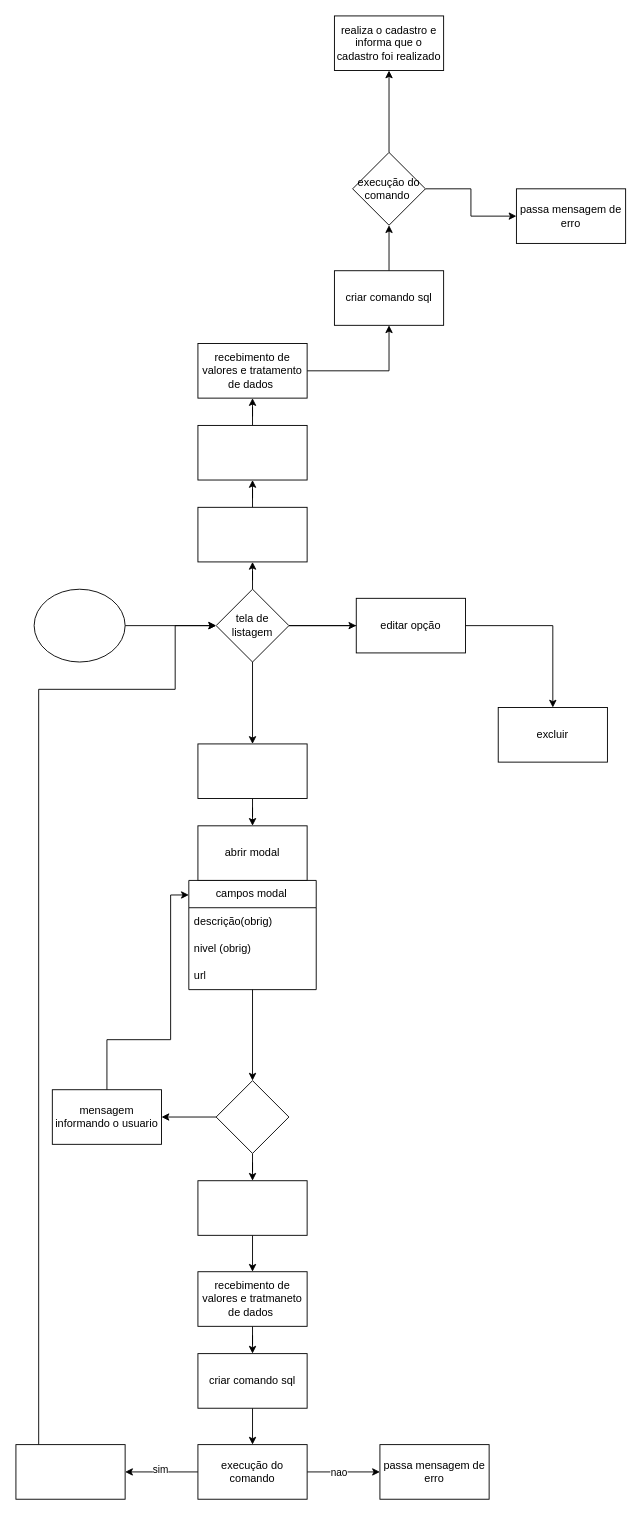
The diagram is 642 pixels wide and 1515 high, and some of its shapes have lost their labels. Each missing label, with the centre of its shape:
"alterar status" belongs at [252,534].
"cadastrar opção" belongs at [252,771].
"fazer a requisiçao com o comando altera_status" belongs at [252,452].
"fazer requisiçao ajax" belongs at [252,1207].
"inicio" belongs at [79,625].
"realizo o cadastro e informo o usuario que cadastro foi realizado" belongs at [70,1471].
"validação de campos" belongs at [252,1116].
